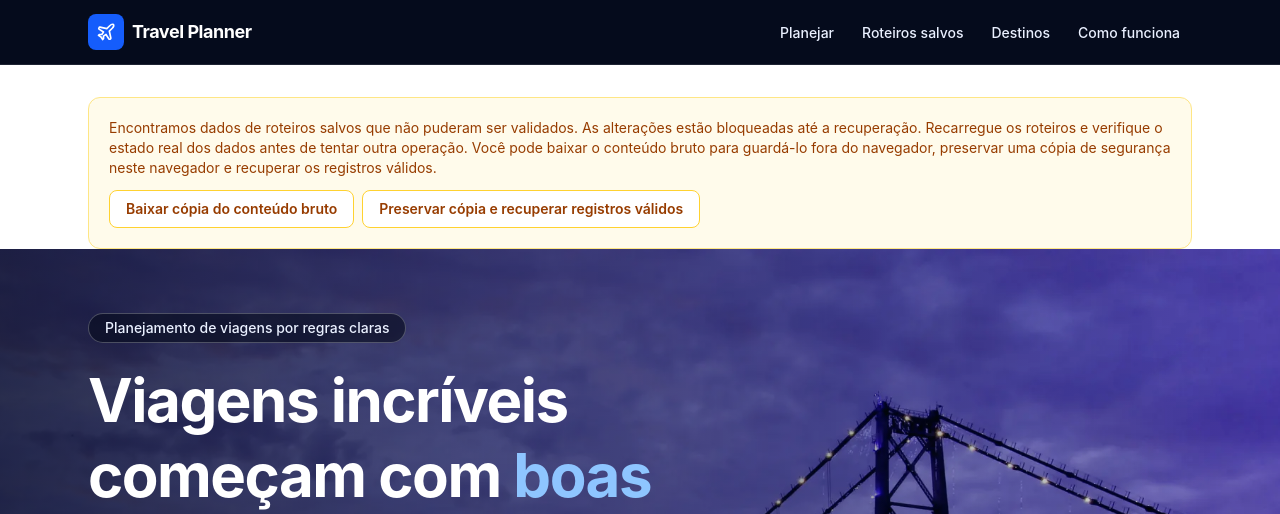
AUD-02 — mensagens correspondentes ao estado real › falha no backup durante a recuperação: mensagem de falha de preservação, principal intacta e sem falso sucesso
What coordinates should you click on to do the following:
click the button "Preservar cópia e recuperar registros válidos"
I would click on:
 (531, 209)
Its box is x1=362 y1=190 x2=700 y2=228.
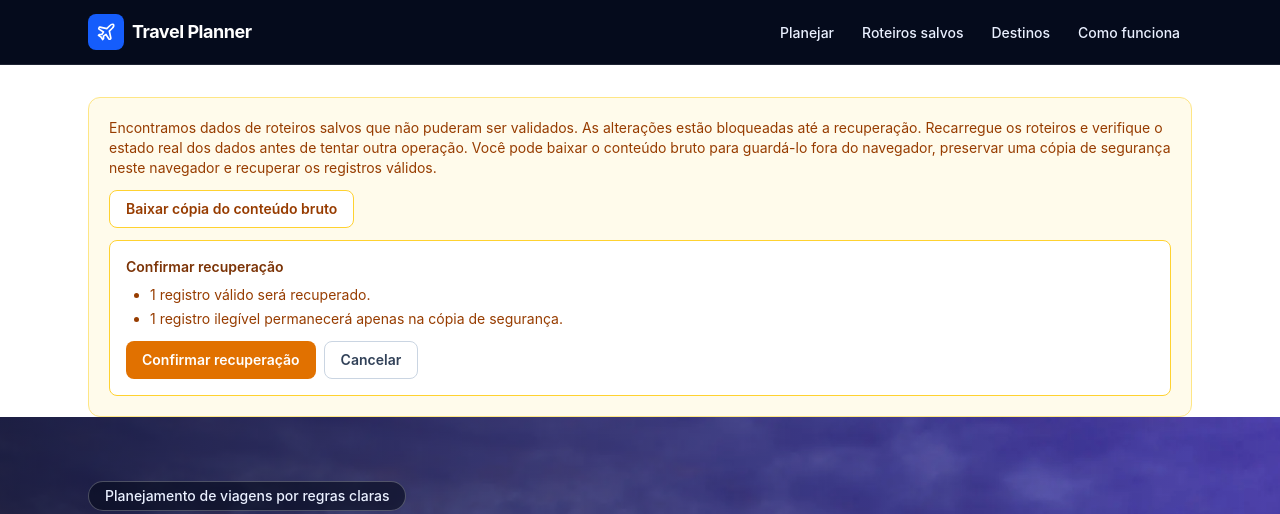
What coordinates should you click on to do the following:
click the button "Confirmar recuperação"
I would click on:
 (221, 360)
Its box is x1=126 y1=341 x2=316 y2=379.
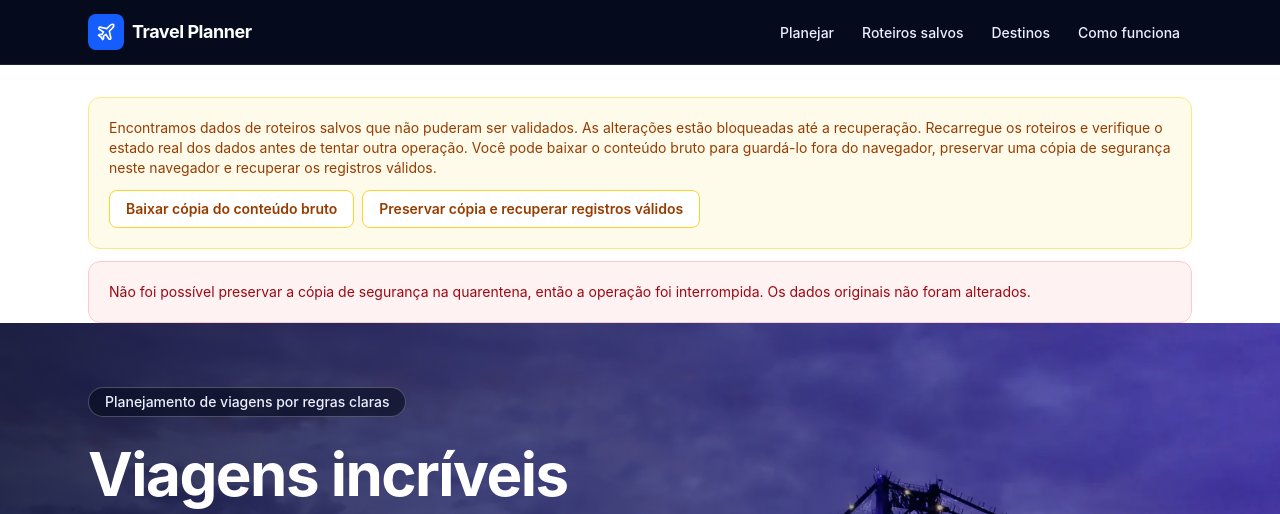
expect the text "Não foi possível preservar a cópia de segurança" is shown: met, box x1=109 y1=283 x2=1031 y2=300
